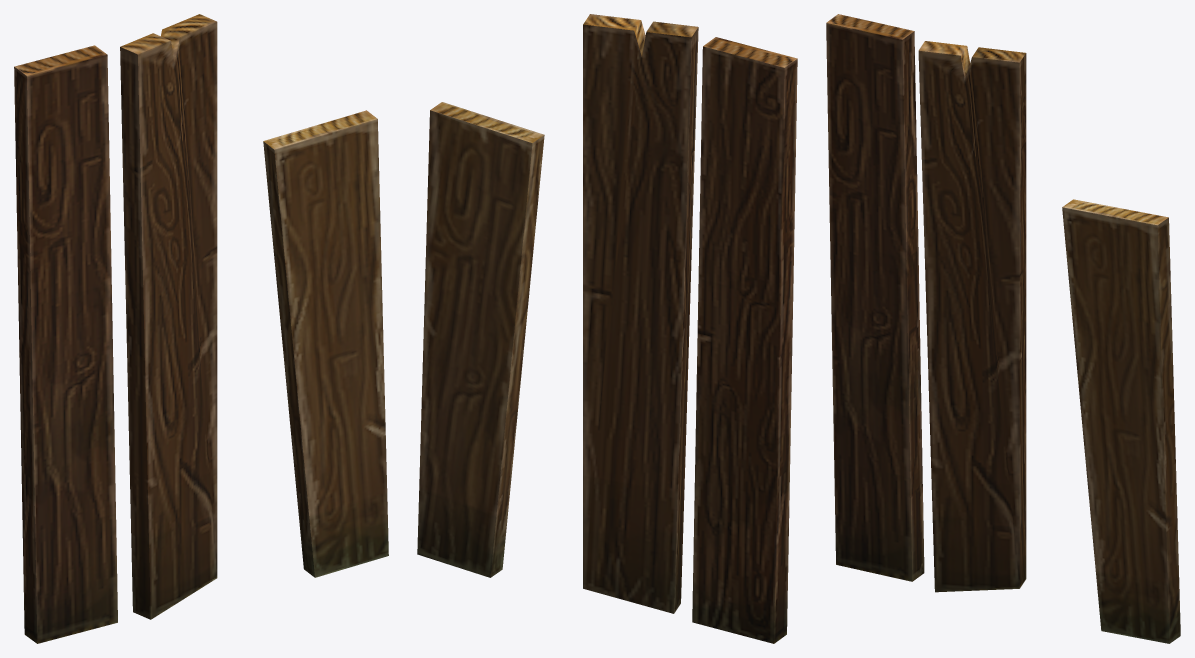
The model's file is Fence_elements1.fbx.
3 renders of one model, left to right at view 1: azimuth 30°, elevation 25°; view 2: azimuth 150°, elevation 25°; view 3: azimuth 330°, elevation 25°, orthographic. The views are drawn at different scales.
Parts seen in each view (by area): view 1: polySurface516; view 2: polySurface516; view 3: polySurface516.
Part boxes in pixels (x1=…): polySurface516: x1=14, y1=14, x2=388, y2=643; polySurface516: x1=417, y1=14, x2=797, y2=643; polySurface516: x1=826, y1=14, x2=1180, y2=643.
Size of the model in its own units: 0.8153 by 1.23 by 0.1016.
1 material, 1 textured.
